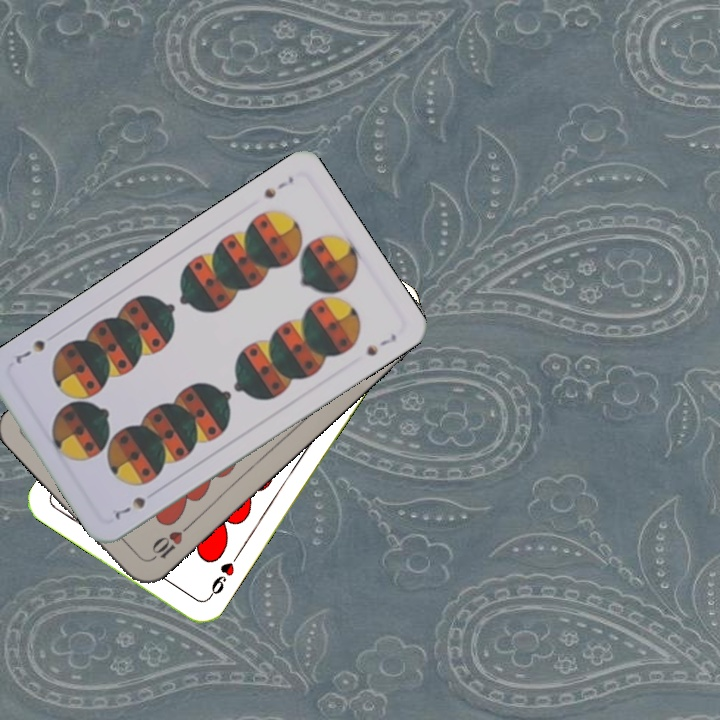H10: (145, 520, 194, 564)
H9: (204, 549, 242, 602)
S7: (111, 492, 149, 523), (260, 172, 297, 201)
